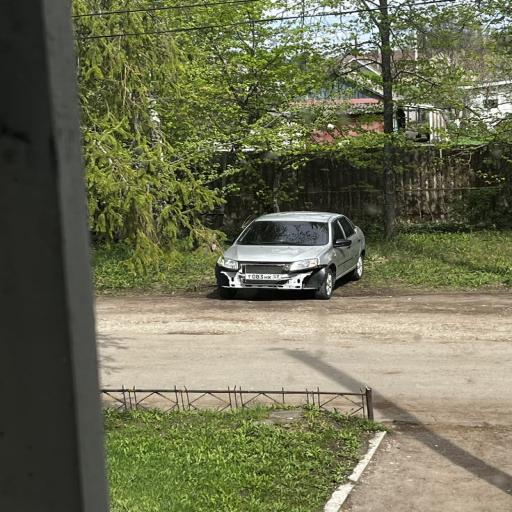book: (209, 202, 373, 302)
glass_wall: (89, 272, 512, 416)
